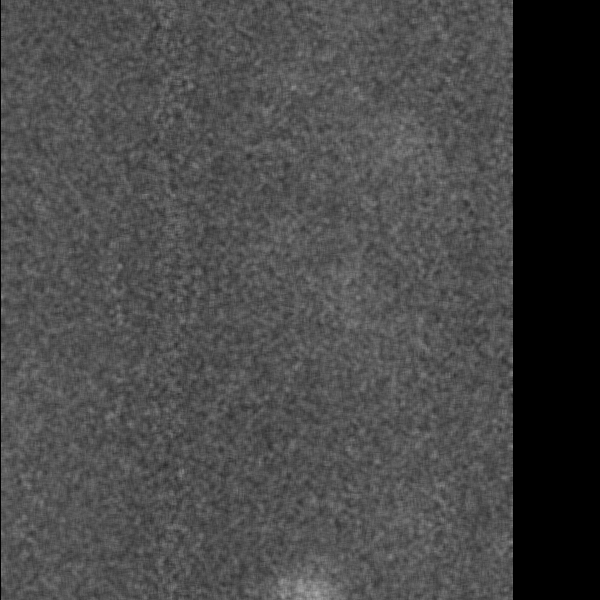spark: (258, 569, 351, 600)
